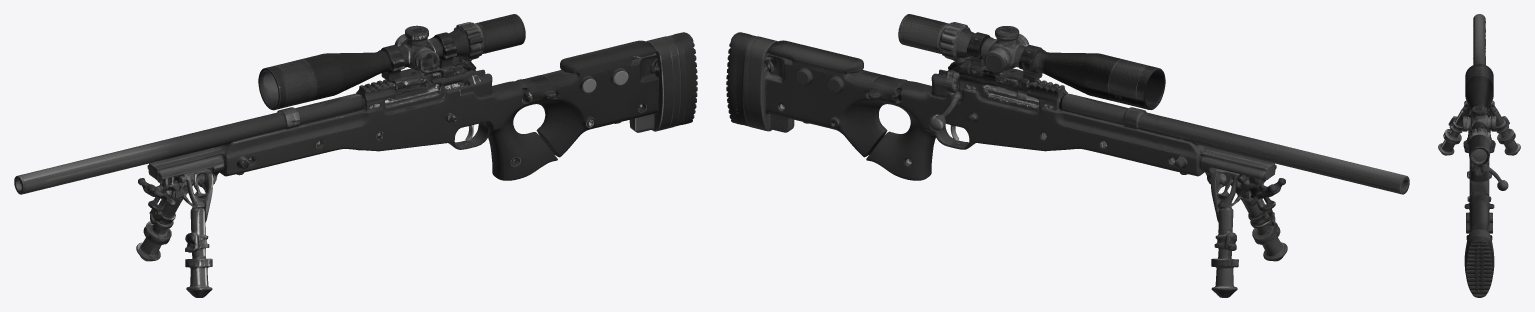
The model's file is Meshy_AI_sniper_1012115733_texture.glb.
3 renders of one model, left to right at view 1: azimuth 30°, elevation 25°; view 2: azimuth 150°, elevation 25°; view 3: azimuth 270°, elevation 25°, orthographic. The views are drawn at different scales.
Parts seen in each view (by area): view 1: mesh_node; view 2: mesh_node; view 3: mesh_node.
Part boxes in pixels (bbox=[...]): mesh_node: bbox=[14, 14, 697, 297]; mesh_node: bbox=[726, 14, 1409, 297]; mesh_node: bbox=[1438, 14, 1520, 297].
Bounding box in the file's own units: 1.9 × 0.5141 × 0.3106.
Materials: 1 (1 with a texture image).
